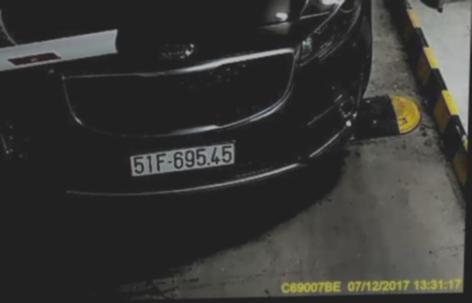License_Plate: (126, 144, 243, 177)
